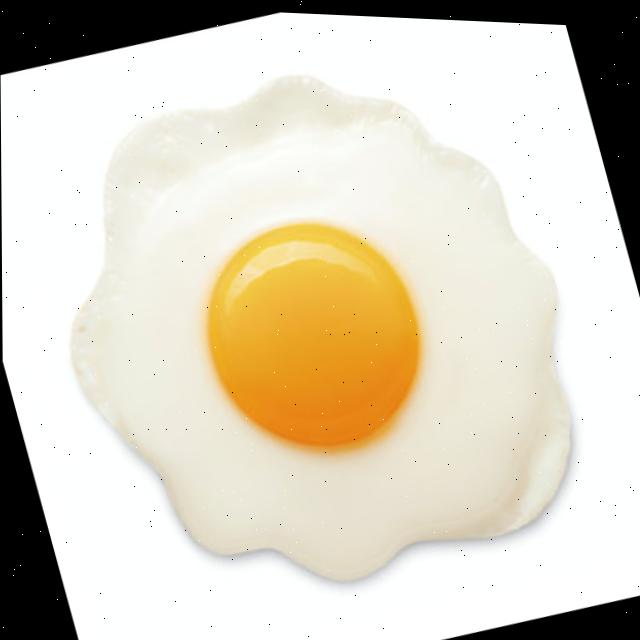Egg: (71, 74, 569, 575)
